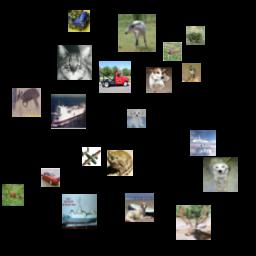airplane: (190, 130, 216, 156), (82, 147, 101, 166)
automobile: (68, 10, 90, 32), (41, 168, 60, 187)
bird: (182, 63, 201, 82)
cat: (57, 45, 92, 80)
deer: (176, 205, 211, 240), (12, 88, 41, 117), (2, 184, 24, 206), (163, 42, 182, 61)
dog: (203, 157, 238, 192), (125, 193, 154, 222), (146, 67, 172, 93), (127, 109, 146, 128)
frog: (107, 150, 133, 176), (186, 26, 205, 45)
ship: (51, 94, 86, 129), (62, 194, 97, 229)
truck: (99, 61, 131, 93)
